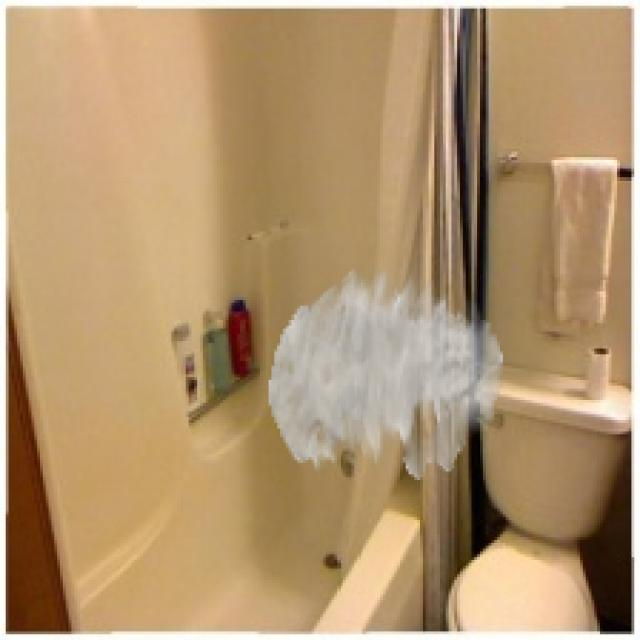smoke: (268, 266, 503, 480)
